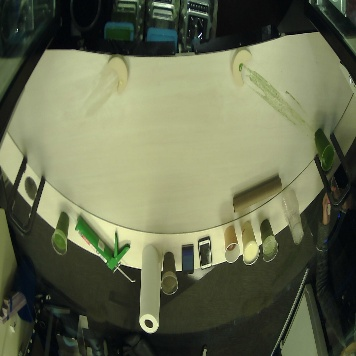empty_cup: (282, 190, 305, 245)
full_cup: (314, 127, 335, 170), (160, 251, 179, 295), (50, 210, 69, 254), (240, 220, 259, 264), (258, 218, 277, 262)
puck: (108, 54, 128, 93), (231, 48, 252, 85)
